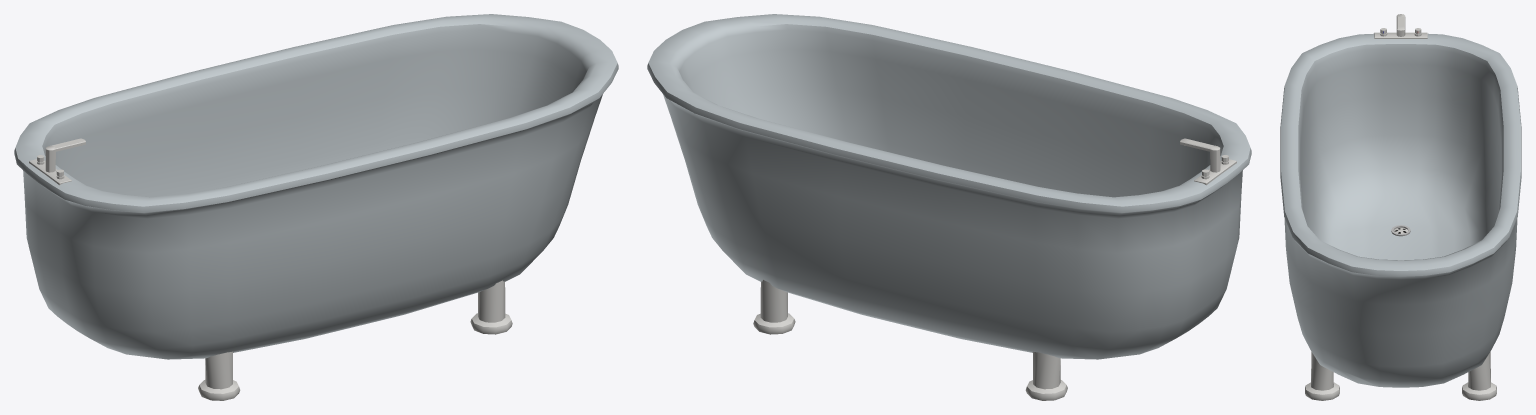
Rendered from bath.glb.
The picture shows the model from 3 angles, left to right: view 1: azimuth 30°, elevation 25°; view 2: azimuth 150°, elevation 25°; view 3: azimuth 270°, elevation 25°; orthographic projection. The views are drawn at different scales.
Visible parts, largest first — view 1: Cube.001; view 2: Cube.001; view 3: Cube.001.
Part boxes in pixels (x1,y1,x2,y2): Cube.001: (14,14,618,400); Cube.001: (647,14,1251,400); Cube.001: (1280,14,1521,400).
Size of the model in its own units: 1.6 by 0.6647 by 0.6862.
Materials: 1 (1 with a texture image).
